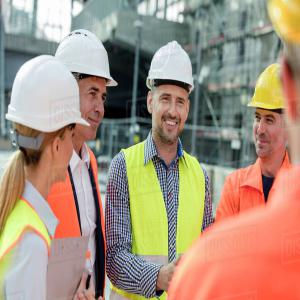white: (11, 54, 80, 186), (55, 30, 113, 142), (146, 41, 194, 144)
yellow: (252, 63, 293, 163)
